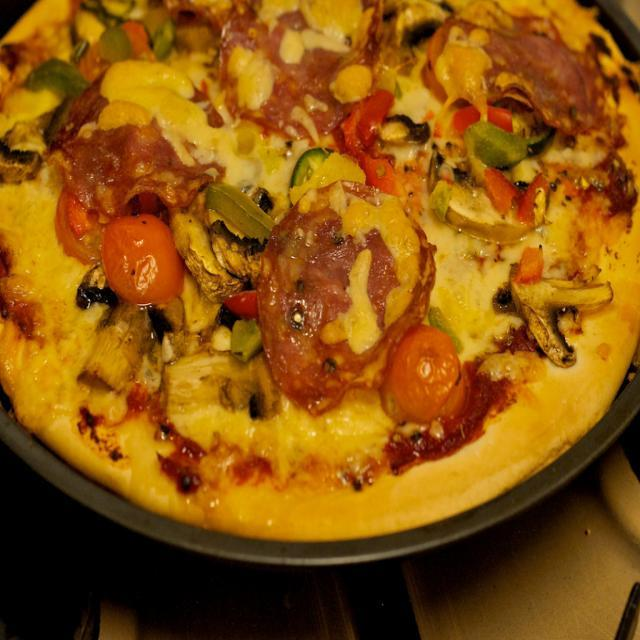Pizza: (0, 0, 639, 535)
